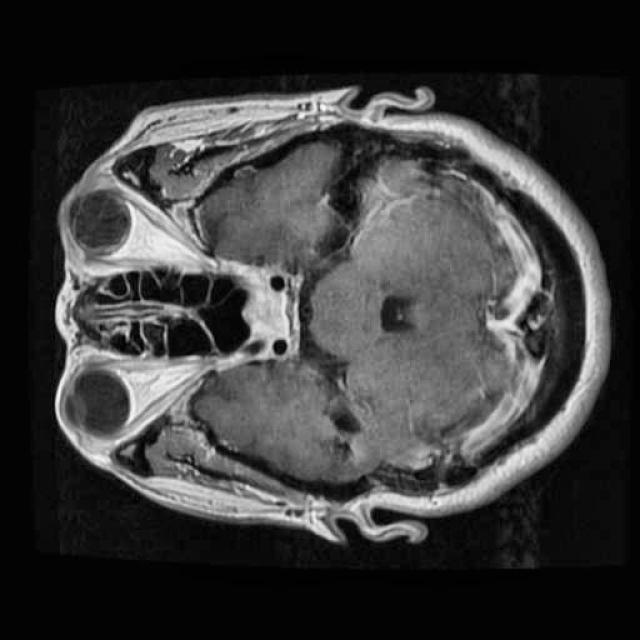Tumor: (228, 258, 298, 354)
